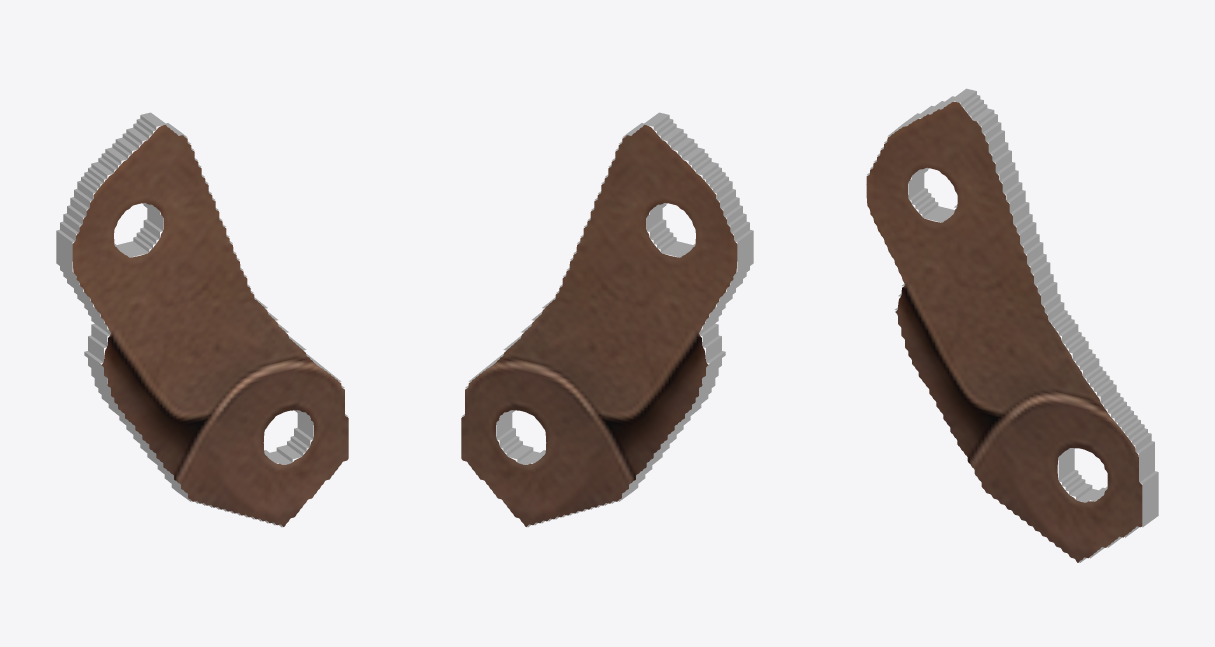
File: ClawLinkRight.glb
3 renders of one model, left to right at view 1: azimuth 30°, elevation 25°; view 2: azimuth 150°, elevation 25°; view 3: azimuth 330°, elevation 25°, orthographic.
Parts seen in each view (by area): view 1: PaperVolume; view 2: PaperVolume; view 3: PaperVolume.
Part boxes in pixels (x1,y1,x2,y2): PaperVolume: [56, 112, 348, 527]; PaperVolume: [461, 112, 753, 527]; PaperVolume: [866, 88, 1158, 562].
Size of the model in its own units: 1.03 by 1.42 by 0.08.
Materials: 3 (2 with a texture image).
